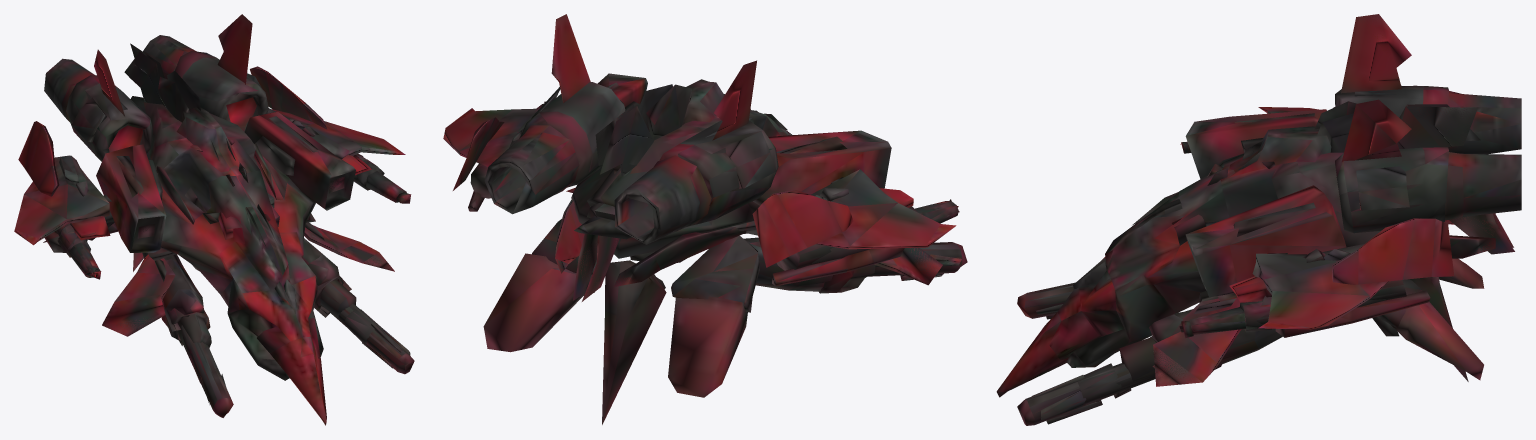
Rendered from ballista_lod.glb.
The picture shows the model from 3 angles, left to right: view 1: azimuth 30°, elevation 25°; view 2: azimuth 150°, elevation 25°; view 3: azimuth 270°, elevation 25°; orthographic projection. The views are drawn at different scales.
Size of the model in its own units: 0.9883 by 0.7109 by 0.9922.
Materials: 1 (1 with a texture image).
